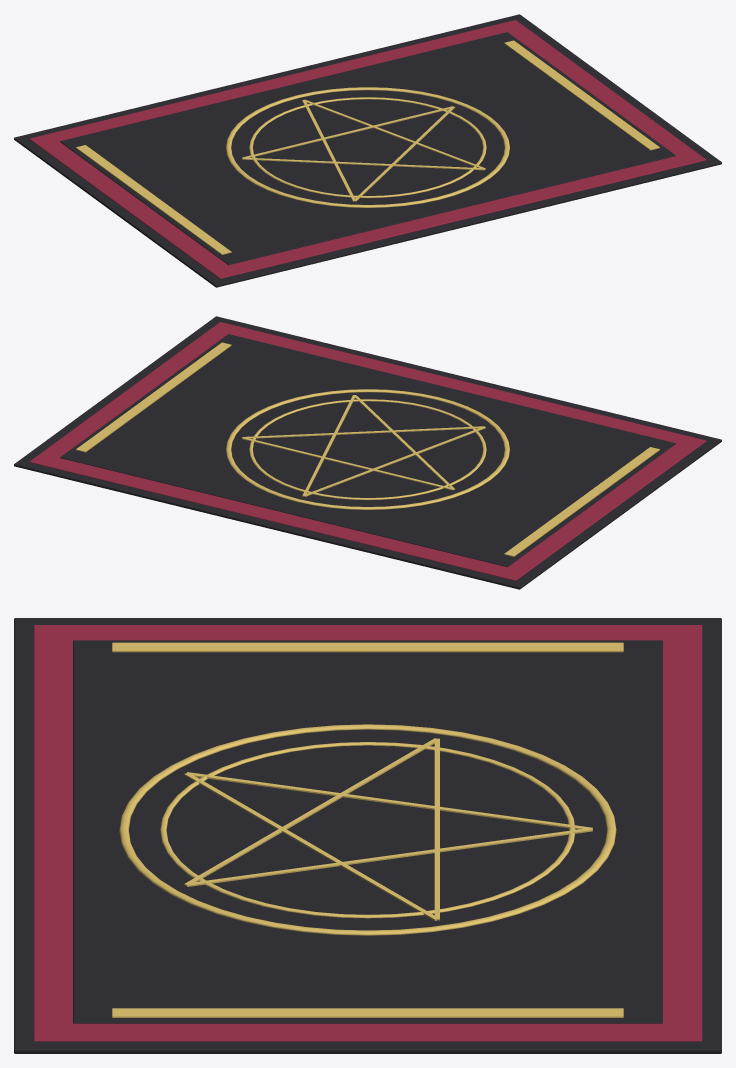
The model's file is rug.glb.
3 renders of one model, top to bottom at view 1: azimuth 30°, elevation 25°; view 2: azimuth 150°, elevation 25°; view 3: azimuth 270°, elevation 25°, orthographic. The views are drawn at different scales.
Parts seen in each view (by area): view 1: GD_rug; view 2: GD_rug; view 3: GD_rug.
Boxes of the visible parts, box(x1,y1,x2,y2) form: GD_rug: box(14, 14, 721, 287); GD_rug: box(14, 316, 721, 589); GD_rug: box(14, 618, 721, 1053).
Size of the model in its own units: 2.6 by 0.0277 by 1.8.
